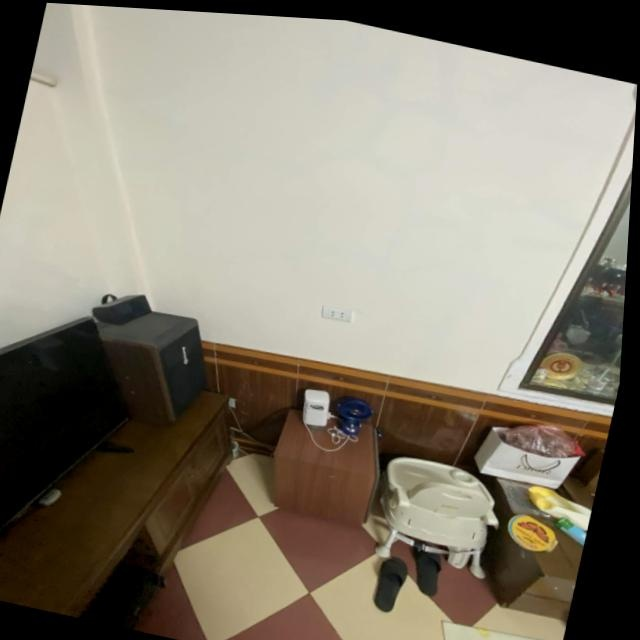outlet: (319, 303, 354, 324)
